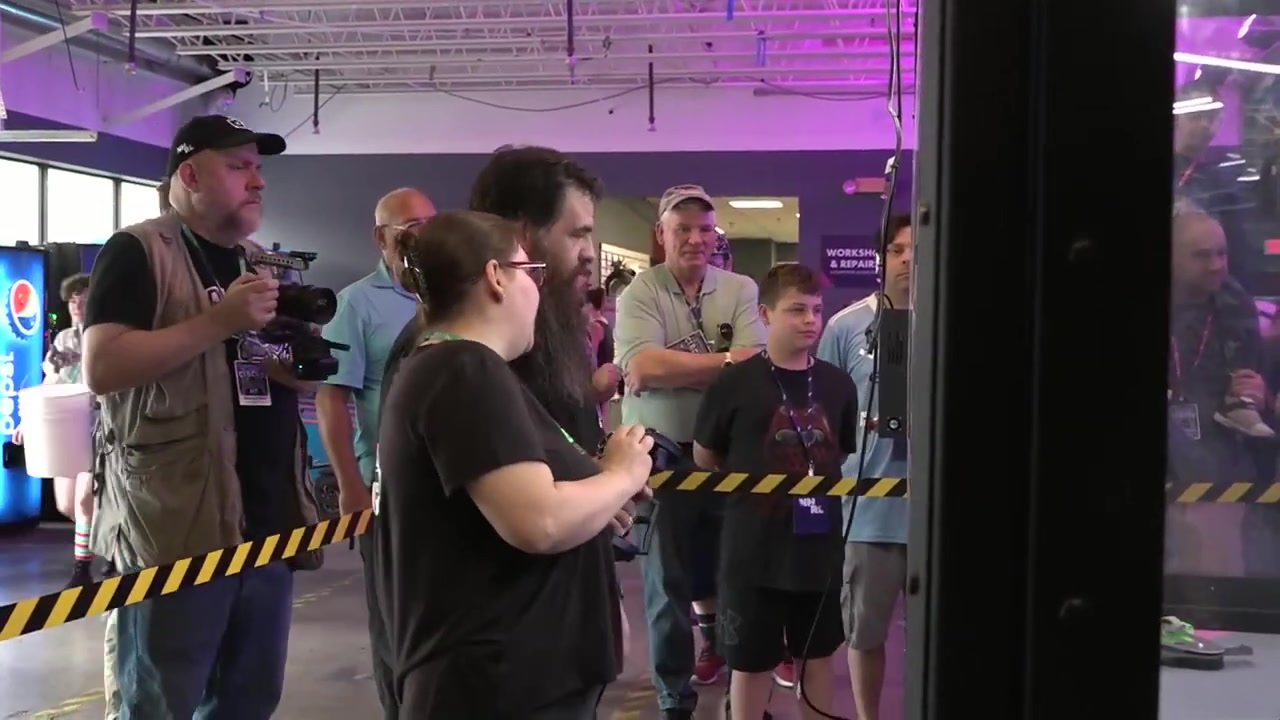combatbot: (1160, 610, 1258, 672)
